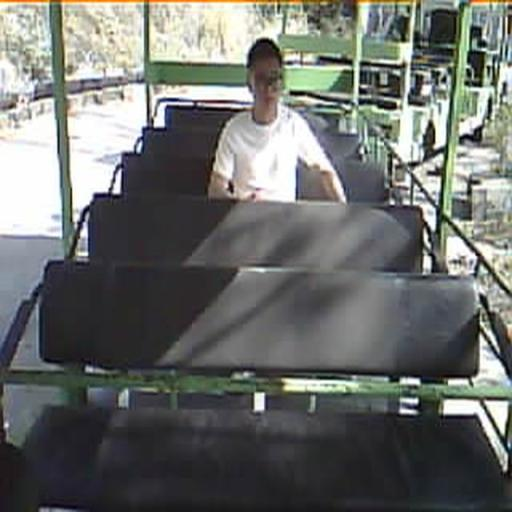persona: (206, 36, 348, 204)
